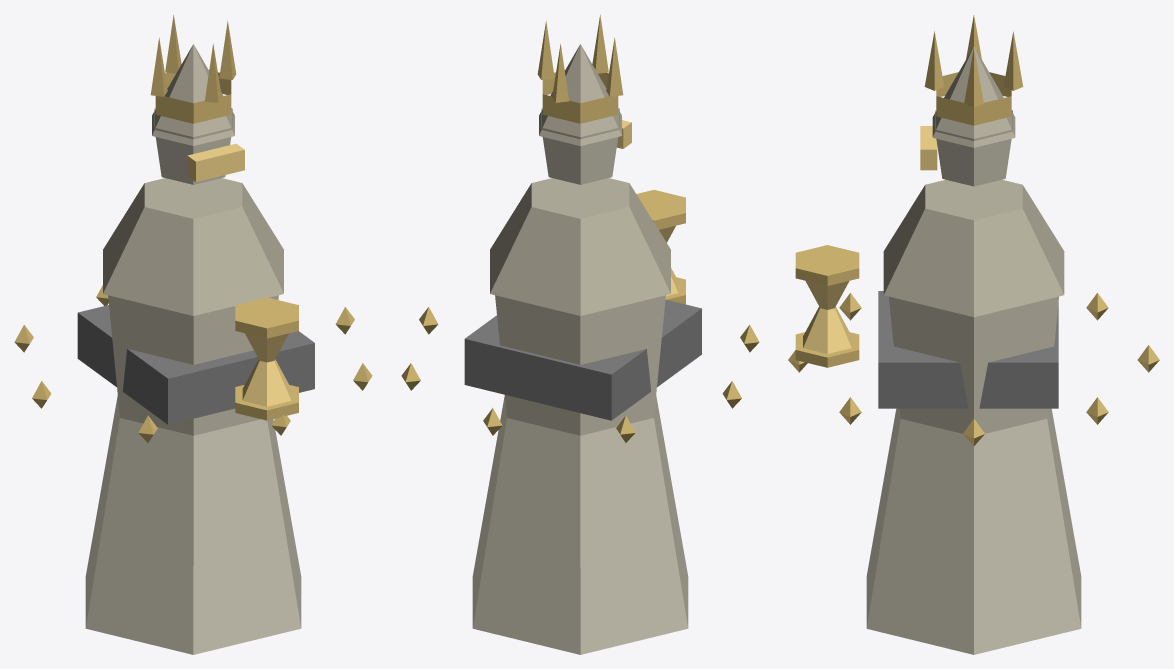
File: chronomancer.obj
3 views of the same model, side by side, from view 1: azimuth 30°, elevation 25°; view 2: azimuth 150°, elevation 25°; view 3: azimuth 270°, elevation 25° (orthographic).
Visible parts, largest first — view 1: chronomancer; view 2: chronomancer; view 3: chronomancer.
Boxes of the visible parts, x1,y1,x2,y2 form: chronomancer: [14, 15, 372, 654]; chronomancer: [401, 15, 759, 654]; chronomancer: [788, 15, 1159, 654].
Size of the model in its own units: 1.32 by 2.34 by 1.32.
